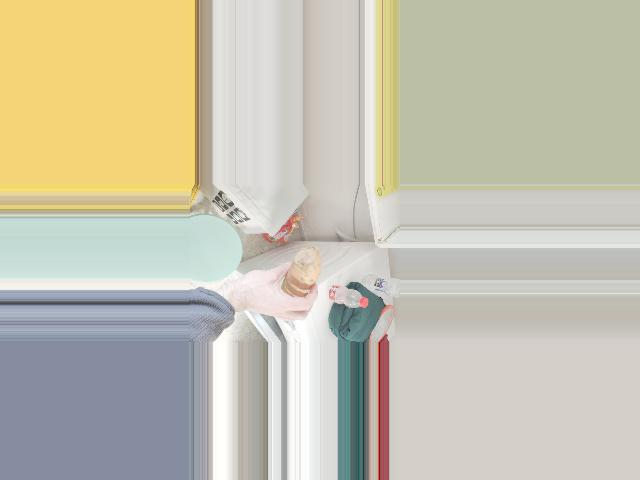sweet_potato: (282, 256, 321, 296)
